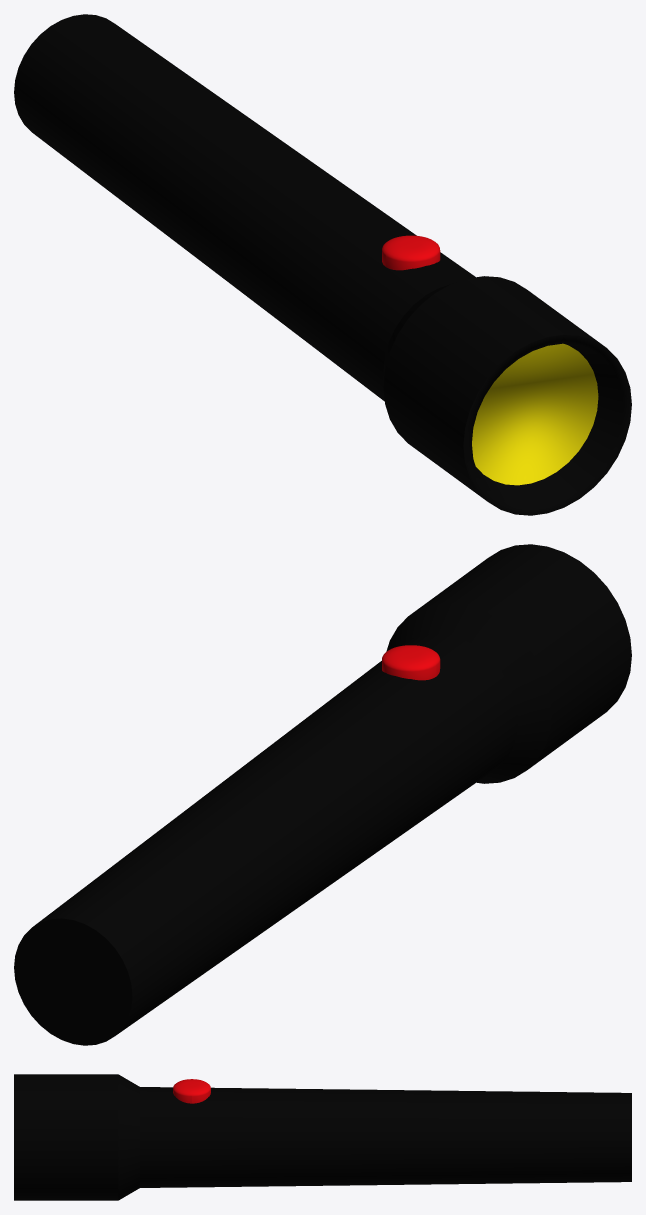
The model's file is linterna.glb.
3 views of the same model, one above another, from view 1: azimuth 30°, elevation 25°; view 2: azimuth 150°, elevation 25°; view 3: azimuth 270°, elevation 25° (orthographic). The views are drawn at different scales.
Visible parts, largest first — view 1: Cilindro; view 2: Cilindro; view 3: Cilindro.
Part boxes in pixels (<box>): Cilindro: <box>14,14,631,515</box>; Cilindro: <box>14,544,631,1045</box>; Cilindro: <box>14,1074,631,1200</box>.
Size of the model in its own units: 1.06 by 1.06 by 5.14.
